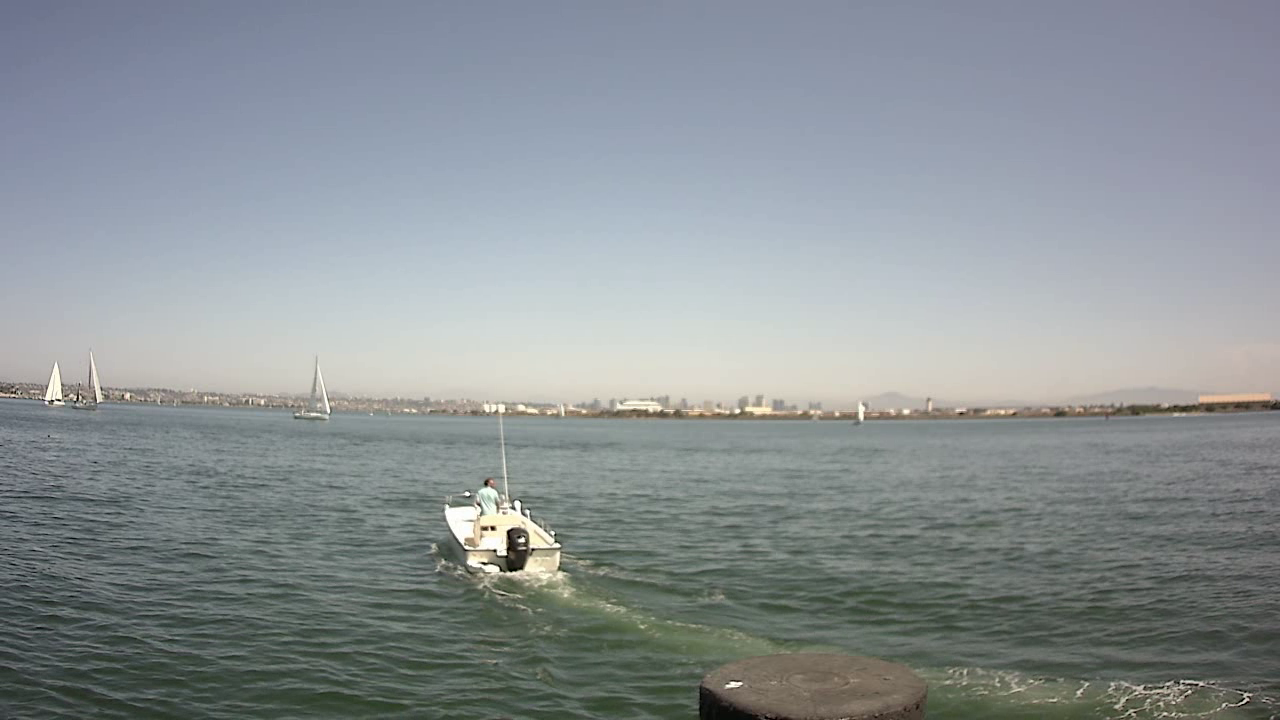target: (431, 470, 572, 594)
